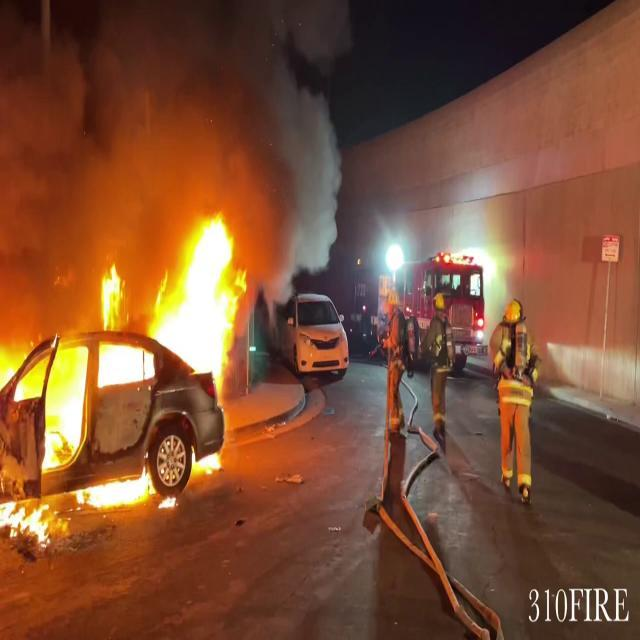Fire: (0, 200, 246, 508)
Smoke: (0, 1, 350, 256)
